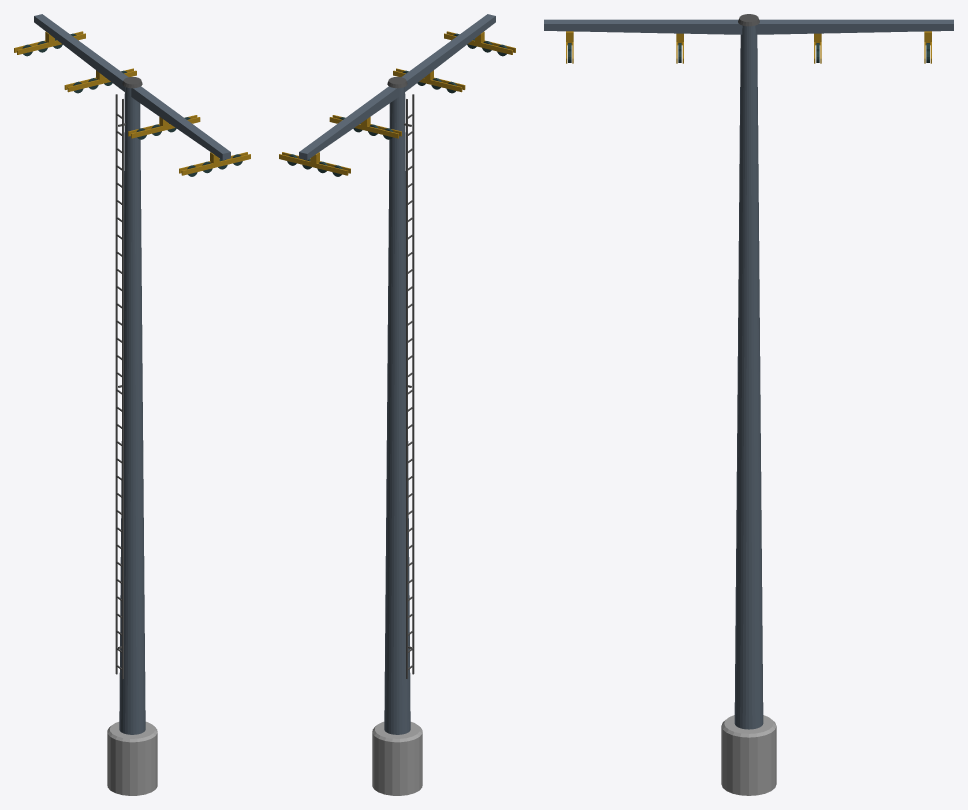
The model's file is funitel_tower.obj.
3 views of the same model, side by side, from view 1: azimuth 30°, elevation 25°; view 2: azimuth 150°, elevation 25°; view 3: azimuth 270°, elevation 25° (orthographic). The views are drawn at different scales.
Size of the model in its own units: 2.5 by 24.54 by 11.9.
